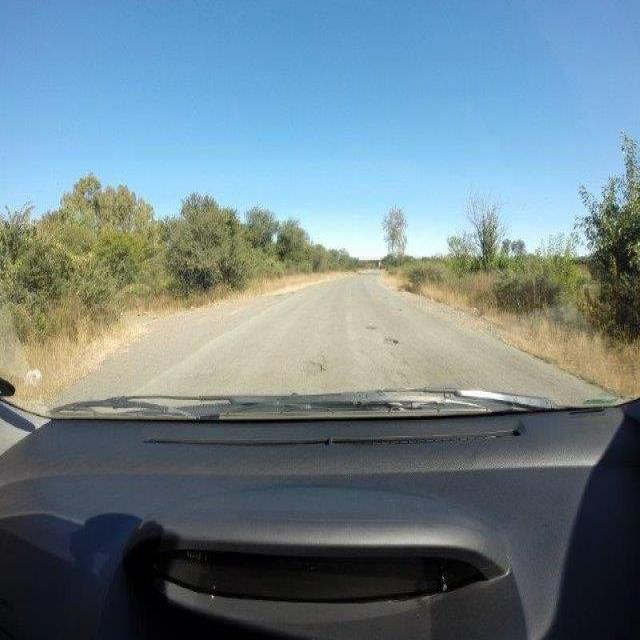lubang: (297, 352, 333, 381), (383, 335, 400, 350), (362, 322, 380, 335)
